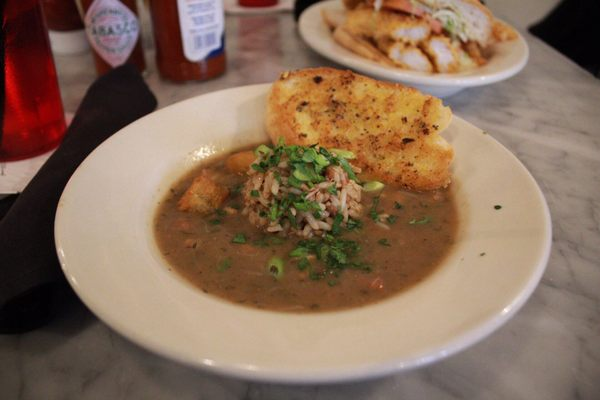soup: (266, 65, 455, 192)
